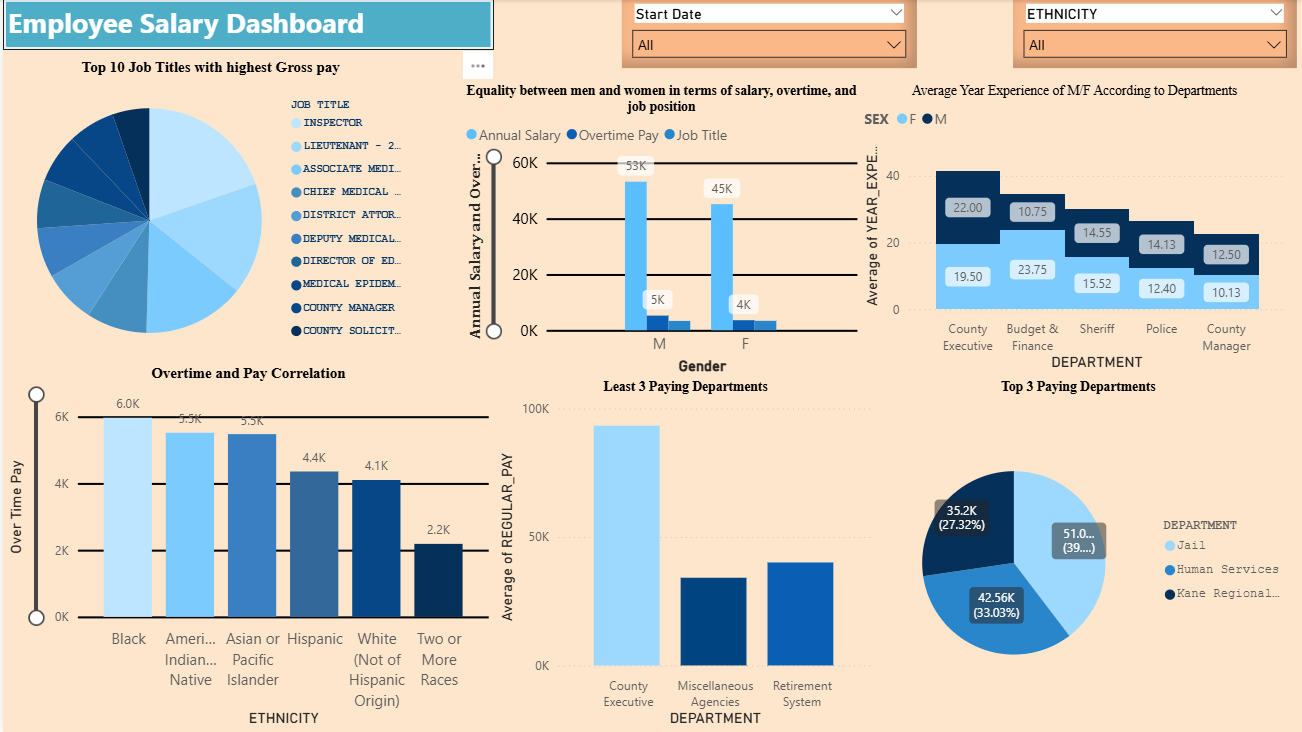

Layout of this report page (visuals, bound fields, positions):
{"tool":"powerbi","page":{"name":"Dashboard","canvas":[1280,720],"ordinal":5},"visuals":[{"type":"pieChart","title":"Top 10 Job Titles with highest Gross pay","fields":{"Y":["Sum(dataset_clean.GROSS_PAY)"],"Category":["dataset_clean.JOB_TITLE"]},"box":[0,58.4,407.7,301.6],"z":0},{"type":"clusteredColumnChart","title":"Overtime and Pay Correlation","fields":{"Category":["dataset_clean.ETHNICITY"],"Y":["Avg(dataset_clean.OVERTIME_PAY)"]},"box":[0,360,481.6,360],"z":1000},{"type":"lineClusteredColumnComboChart","title":"Equality between men and women in terms of salary, overtime, and job position","fields":{"Category":["dataset_clean.SEX"],"Y":["Avg(dataset_clean.ANNUAL_SALARY)","Avg(dataset_clean.OVERTIME_PAY)","CountNonNull(dataset_clean.JOB_TITLE)"]},"box":[449.7,82.5,394.2,290.7],"z":2000},{"type":"pieChart","title":"Top 3 Paying Departments","fields":{"Category":["newdataset.DEPARTMENT","dataset_clean.Department_Code"],"Y":["Avg(dataset_clean.REGULAR_PAY)"]},"box":[840.2,373.3,430,346.2],"z":3000},{"type":"lineClusteredColumnComboChart","title":"Least 3 Paying Departments","fields":{"Category":["dataset_clean.DEPARTMENT","dataset_clean.Department_Code"],"Y":["Avg(dataset_clean.REGULAR_PAY)"]},"box":[481.7,373.3,375.7,346.2],"z":4000},{"type":"lineStackedColumnComboChart","title":"Average Year Experience of M/F According to Departments","fields":{"Category":["newdataset.DEPARTMENT"],"Y":["Avg(newdataset.YEAR_EXPERIENCE)"],"Series":["newdataset.SEX"]},"box":[840.2,82.5,422.6,287],"z":5000},{"type":"shape","box":[0,0,481.6,50.1],"z":6000},{"type":"textbox","box":[0,0,482.1,49.8],"z":7000},{"type":"slicer","fields":{"Values":["dataset_clean.DATE_STARTED"]},"box":[607.4,0,289.5,67.8],"z":7001},{"type":"slicer","fields":{"Values":["newdataset.ETHNICITY"]},"box":[991.7,0,278.4,67.8],"z":7002}]}

Visuals, with their boxes in screenshot pixels (x1, y1, x2, y2), scaled from the page's 1280x720 canvas onto the 1302x732 screenshot:
"Top 10 Job Titles with highest Gross pay" pieChart: bbox=[0, 59, 415, 366]
"Overtime and Pay Correlation" clusteredColumnChart: bbox=[0, 366, 490, 731]
"Equality between men and women in terms of salary, overtime, and job position" lineClusteredColumnComboChart: bbox=[457, 84, 858, 379]
"Top 3 Paying Departments" pieChart: bbox=[855, 380, 1292, 731]
"Least 3 Paying Departments" lineClusteredColumnComboChart: bbox=[490, 380, 872, 731]
"Average Year Experience of M/F According to Departments" lineStackedColumnComboChart: bbox=[855, 84, 1285, 376]
shape: bbox=[0, 0, 490, 51]
textbox: bbox=[0, 0, 490, 51]
slicer - dataset_clean.DATE_STARTED: bbox=[618, 0, 912, 69]
slicer - newdataset.ETHNICITY: bbox=[1009, 0, 1292, 69]
